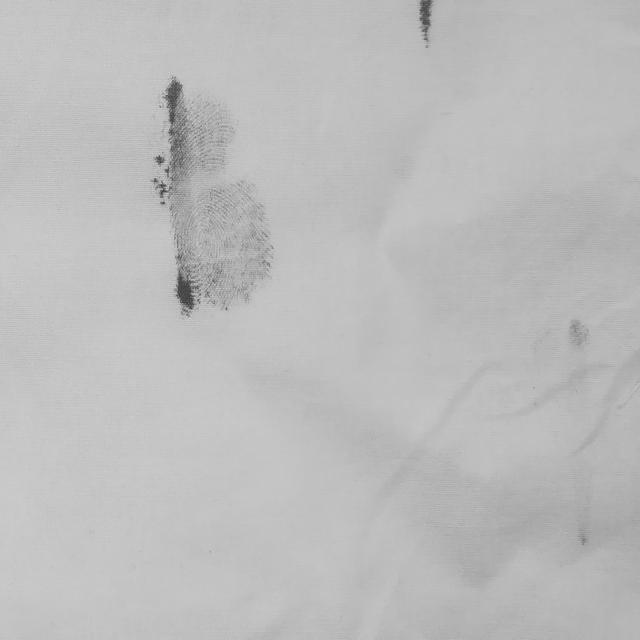Stain: (153, 76, 273, 313), (420, 0, 434, 46), (567, 317, 589, 344), (575, 523, 591, 548)
